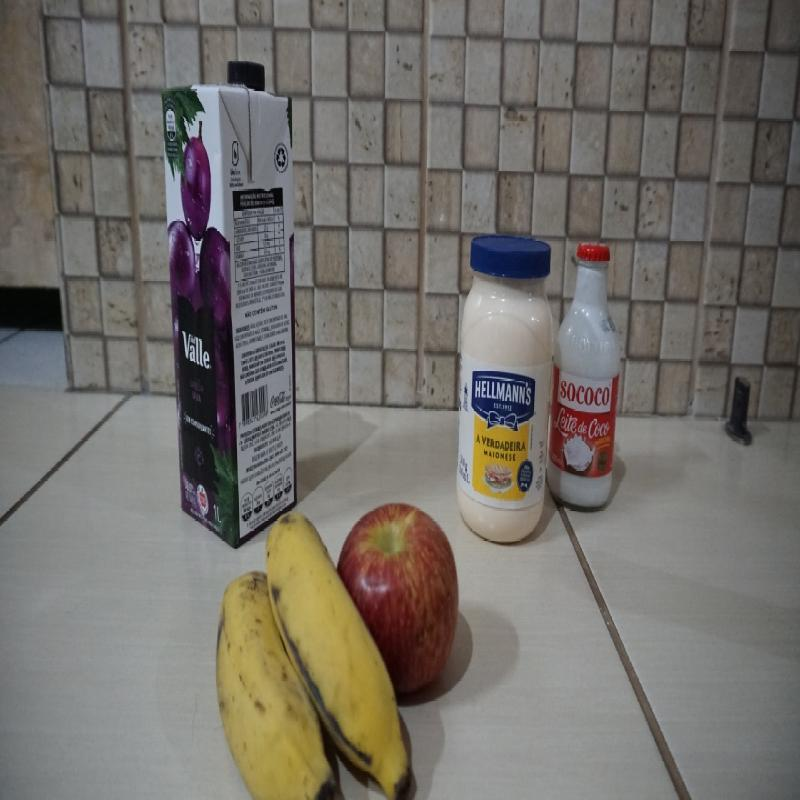Apple: (336, 504, 459, 694)
Banana: (219, 510, 414, 800)
Coconut Milk: (549, 243, 616, 512)
Mayonnaise: (454, 230, 554, 544)
